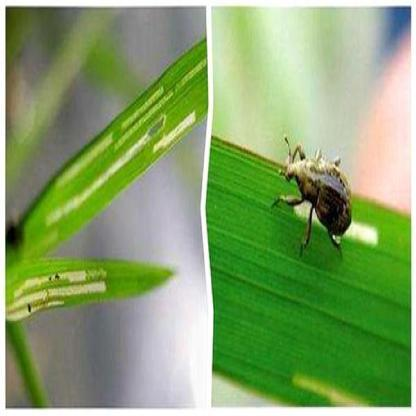rice-bug: (274, 138, 352, 248)
